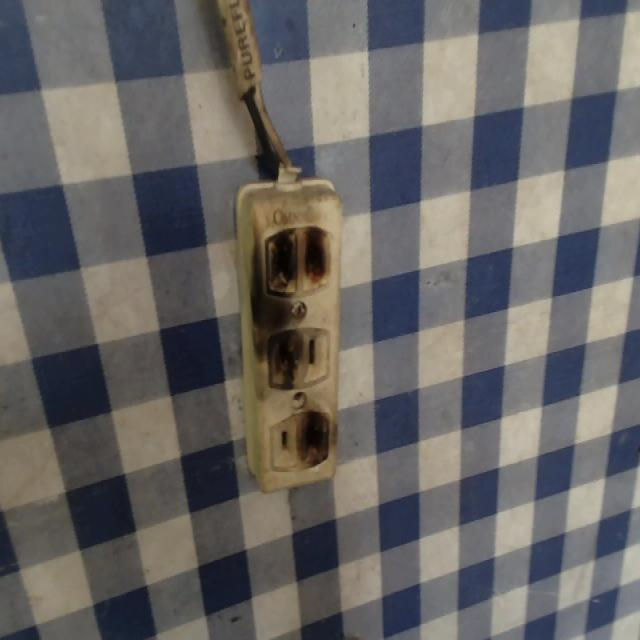-: (250, 208, 337, 301), (294, 403, 338, 473), (257, 328, 303, 392)
